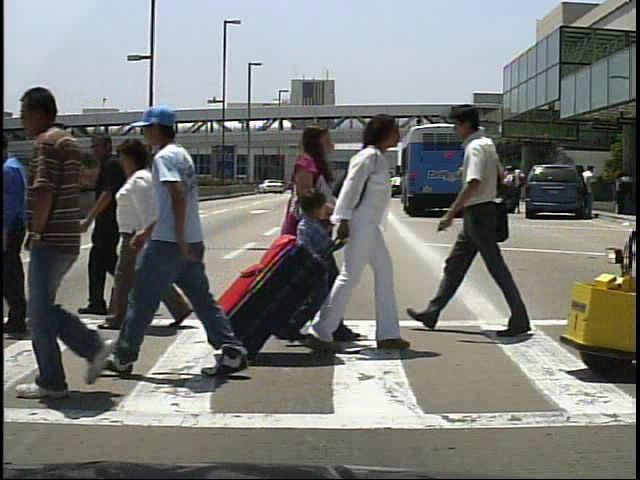person: (0, 84, 154, 403), (417, 103, 554, 349), (135, 105, 243, 388), (322, 112, 413, 363), (279, 119, 350, 359), (82, 129, 147, 323), (107, 137, 172, 331), (9, 122, 44, 341), (280, 183, 332, 318), (582, 164, 602, 218), (498, 166, 516, 219), (505, 165, 524, 215)
